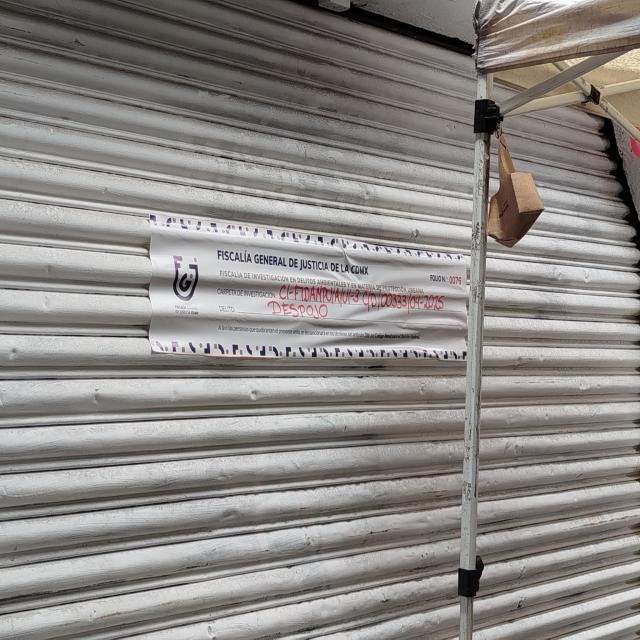stamps: (147, 217, 469, 356)
